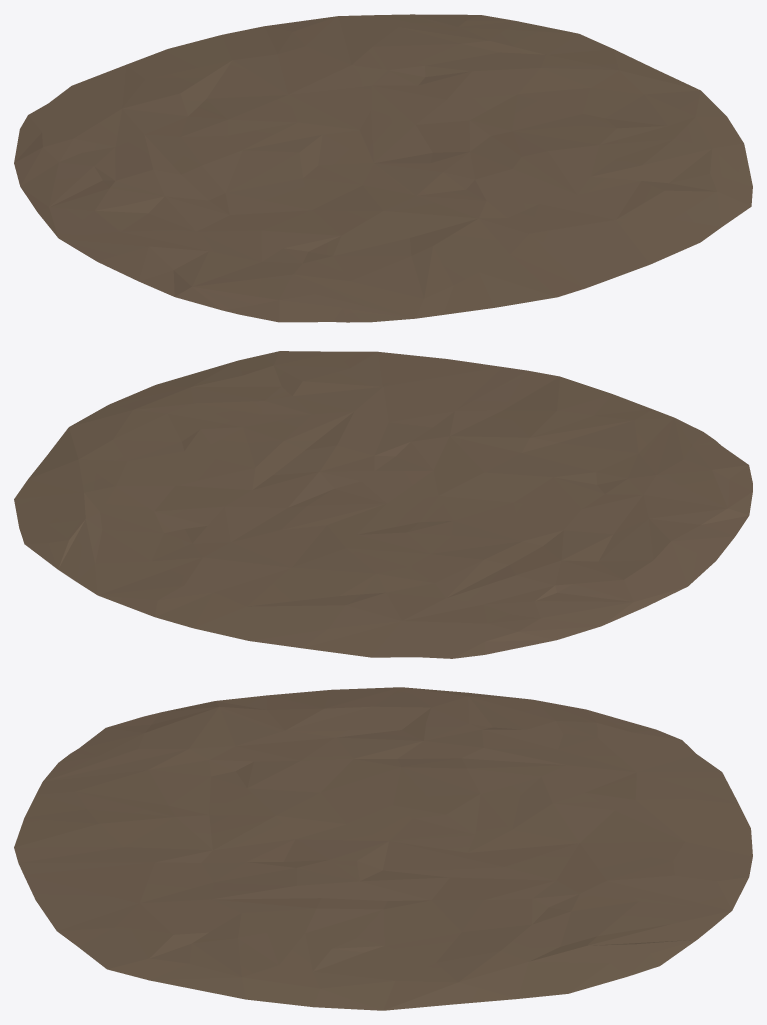
File: SM_Env_Ground_Dirt_Round_01.glb
3 renders of one model, top to bottom at view 1: azimuth 30°, elevation 25°; view 2: azimuth 150°, elevation 25°; view 3: azimuth 270°, elevation 25°, orthographic. The views are drawn at different scales.
Parts seen in each view (by area): view 1: SM_Env_Ground_Dirt_Round_01; view 2: SM_Env_Ground_Dirt_Round_01; view 3: SM_Env_Ground_Dirt_Round_01.
Boxes of the visible parts, x1,y1,x2,y2 form: SM_Env_Ground_Dirt_Round_01: [14, 14, 752, 322]; SM_Env_Ground_Dirt_Round_01: [14, 351, 752, 658]; SM_Env_Ground_Dirt_Round_01: [14, 687, 752, 1010].
Bounding box in the file's own units: 780 × 8.85 × 752.
1 material, 1 textured.
